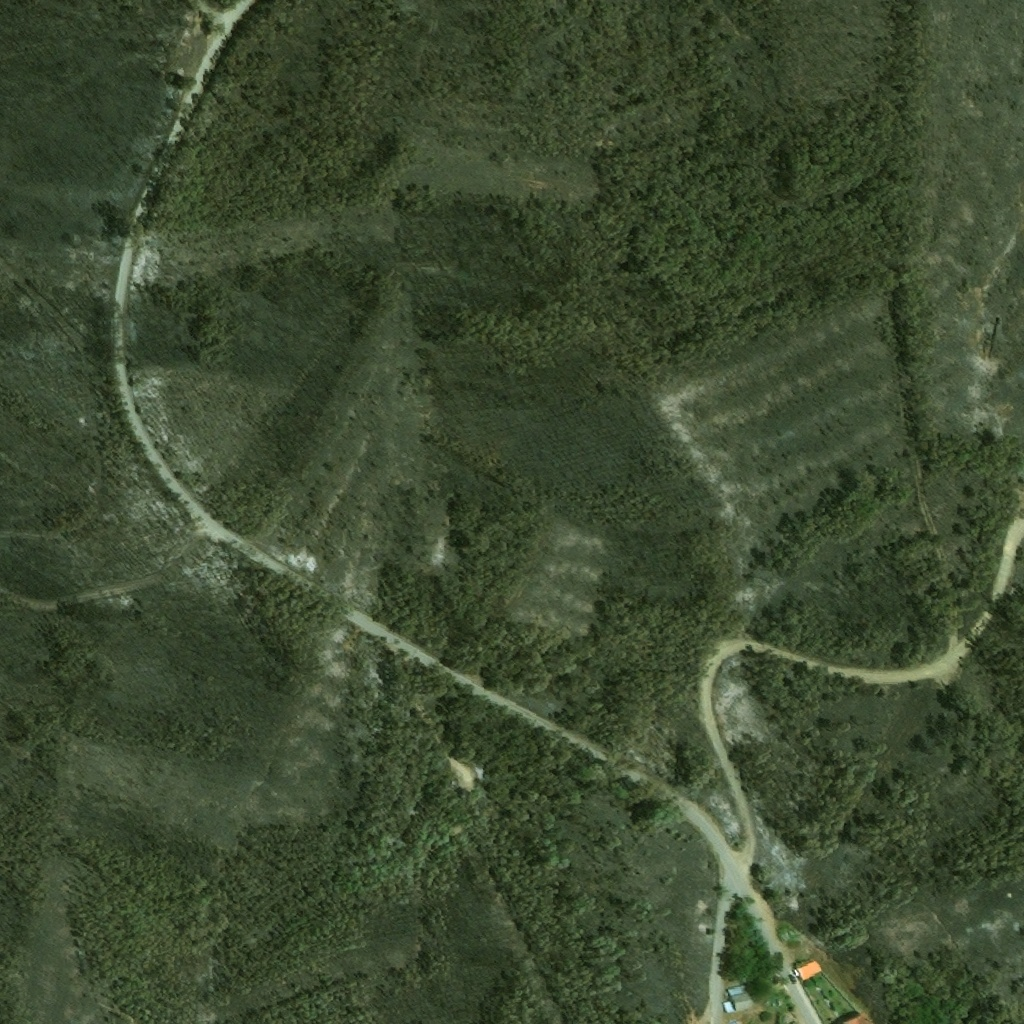0 no-damage: (723, 984, 754, 1013), (795, 958, 822, 981), (840, 1010, 874, 1023)
